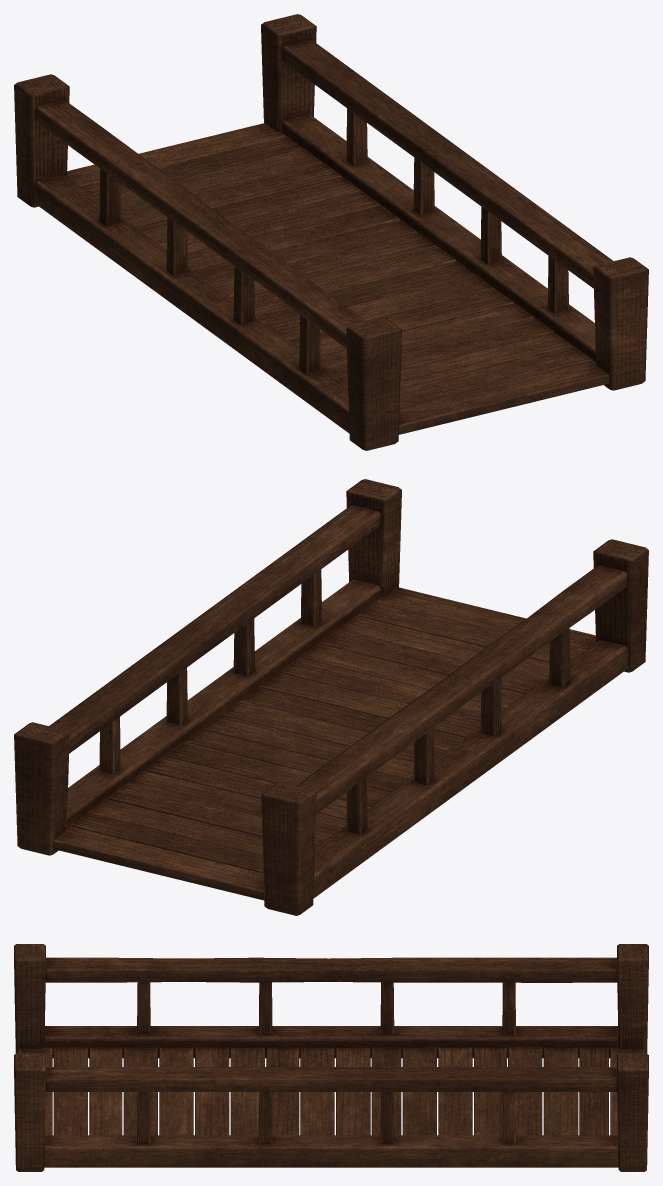
The model's file is Bridge.fbx.
The picture shows the model from 3 angles, top to bottom: view 1: azimuth 30°, elevation 25°; view 2: azimuth 150°, elevation 25°; view 3: azimuth 270°, elevation 25°; orthographic projection. The views are drawn at different scales.
Visible parts, largest first — view 1: g.020, g.032, g.004, g.023, g.017, g.002, g.019, g.003, g.028, g.011, g.016, g.018 (+22 smaller); view 2: g.020, g.032, g.004, g.023, g.003, g.028, g.025, g.017, g.002, g.009, g.001, g.030 (+22 smaller); view 3: g.023, g.004, g.032, g.020, g.028, g.002, g.003, g.017, g.030, g.011, g.014, g (+22 smaller).
Part boxes in pixels (x1,y1,x2,y2): g.020: (34,175,349,433); g.032: (282,40,613,288); g.004: (35,100,366,348); g.023: (281,114,595,361); g.017: (346,317,401,450); g.002: (593,257,648,390); g.019: (398,361,609,434); g.003: (14,74,69,207); g.028: (261,14,316,132); g.011: (399,346,592,408); g.016: (120,162,342,227); g.018: (187,205,400,270); g.020: (313,640,628,898); g.032: (49,505,380,753); g.004: (296,565,627,813); g.023: (67,580,381,827); g.003: (261,782,316,915); g.028: (14,722,69,855); g.025: (53,826,264,900); g.017: (593,539,648,672); g.002: (346,479,401,596); g.009: (260,672,480,737); g.001: (70,813,263,873); g.030: (87,799,262,856); g.023: (43,1135,618,1167); g.004: (45,957,617,982); g.032: (45,1067,617,1091); g.020: (44,1026,618,1058); g.028: (617,1053,648,1171); g.002: (14,1053,45,1171); g.003: (617,944,648,1053); g.017: (14,944,45,1053); g.030: (543,1048,578,1135); g.011: (53,1047,87,1135); g.014: (195,1047,229,1135); g: (438,1048,472,1135).
Size of the model in its own units: 94.8 by 36.4 by 200.
1 material, 1 textured.
